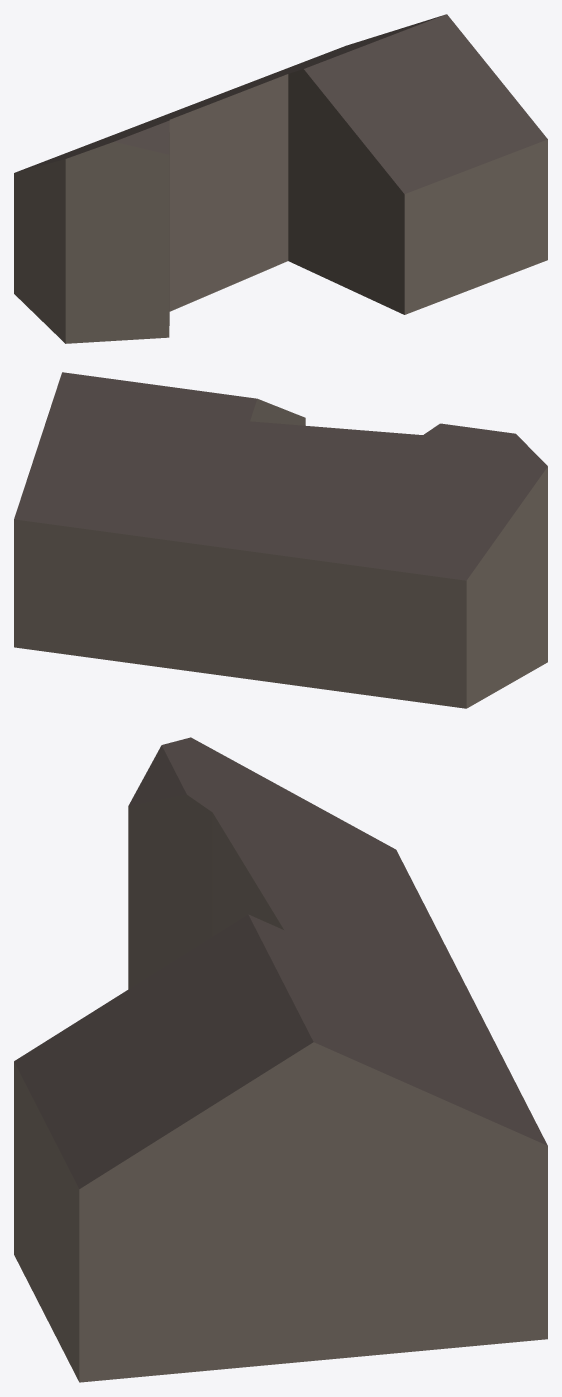
3 renders of one model, top to bottom at view 1: azimuth 30°, elevation 25°; view 2: azimuth 150°, elevation 25°; view 3: azimuth 270°, elevation 25°, orthographic. The views are drawn at different scales.
Visible parts, largest first — view 1: HP-w1376988751; view 2: HP-w1376988751; view 3: HP-w1376988751.
Part boxes in pixels (bbox=[...]): HP-w1376988751: bbox=[14, 14, 547, 343]; HP-w1376988751: bbox=[14, 372, 547, 708]; HP-w1376988751: bbox=[14, 737, 547, 1382].
Bounding box in the file's own units: 23.27 × 9.9 × 15.02.
